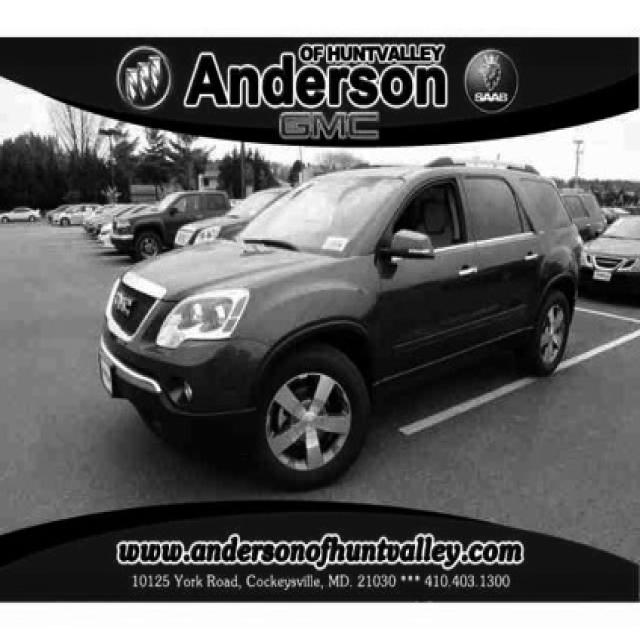car: (97, 155, 584, 489)
